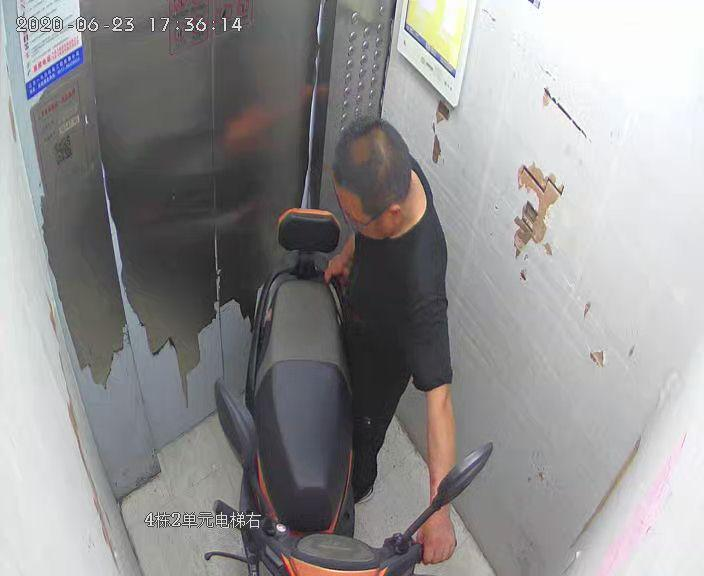Electric-bicycle: (202, 208, 492, 575)
